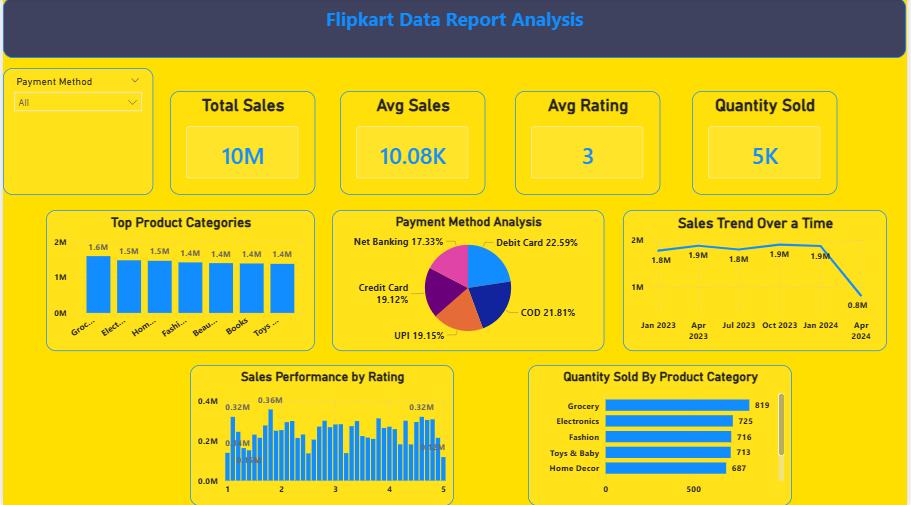

What the dashboard file says about the page in this screenshot:
{"tool":"powerbi","page":{"name":"Page 1","canvas":[1280,720],"ordinal":0},"visuals":[{"type":"cardVisual","title":"Total Sales","fields":{"Data":["Sum(Sheet1.Sales Amount)"]},"box":[236.7,131.8,205.5,147.4],"z":0},{"type":"cardVisual","title":"Avg Sales","fields":{"Data":["Avg(Sheet1.Sales Amount)"]},"box":[477.6,131.8,205.5,147.4],"z":1000},{"type":"cardVisual","title":"Quantity Sold","fields":{"Data":["Sum(Sheet1.Quantity Sold)"]},"box":[976.5,131.8,205.5,147.4],"z":2000},{"type":"cardVisual","title":"Avg Rating","fields":{"Data":["Avg(Sheet1.Customer Rating)"]},"box":[725.7,131.8,205.5,147.4],"z":3000},{"type":"pieChart","title":"Payment Method Analysis","fields":{"Category":["Sheet1.Payment Method"],"Y":["Sum(Sheet1.Sales Amount)"]},"box":[466.3,300.5,385.5,199.8],"z":4000},{"type":"columnChart","title":"Top Product Categories","fields":{"Category":["Sheet1.Product Category"],"Y":["Sum(Sheet1.Sales Amount)"]},"box":[60.9,300.5,381.3,199.8],"z":5000},{"type":"lineChart","title":"Sales Trend Over a Time","fields":{"Category":["Sheet1.Order Date.Variation.Date Hierarchy.Year","Sheet1.Order Date.Variation.Date Hierarchy.Quarter","Sheet1.Order Date.Variation.Date Hierarchy.Month","Sheet1.Order Date.Variation.Date Hierarchy.Day"],"Y":["Sum(Sheet1.Sales Amount)"]},"box":[878.7,300.5,374.2,199.8],"z":6000},{"type":"clusteredColumnChart","title":"Sales Performance by Rating","fields":{"Category":["Sheet1.Customer Rating"],"Y":["Sum(Sheet1.Sales Amount)"]},"box":[265,520.2,374.2,199.8],"z":7000},{"type":"textbox","box":[0,0,1279.8,85],"z":8000},{"type":"clusteredBarChart","title":"Quantity Sold By Product Category","fields":{"Category":["Sheet1.Product Category"],"Y":["Sum(Sheet1.Quantity Sold)"]},"box":[744.1,520.2,374.2,199.8],"z":9000},{"type":"slicer","fields":{"Values":["Sheet1.Payment Method"]},"box":[0,99.2,212.6,180],"z":10000}]}

Visuals, with their boxes in screenshot pixels (x1, y1, x2, y2), scaled from the page's 1280x720 canvas onto the 911x505 screenshot:
"Total Sales" cardVisual: x1=168 y1=92 x2=315 y2=196
"Avg Sales" cardVisual: x1=340 y1=92 x2=486 y2=196
"Quantity Sold" cardVisual: x1=695 y1=92 x2=841 y2=196
"Avg Rating" cardVisual: x1=516 y1=92 x2=663 y2=196
"Payment Method Analysis" pieChart: x1=332 y1=211 x2=606 y2=351
"Top Product Categories" columnChart: x1=43 y1=211 x2=315 y2=351
"Sales Trend Over a Time" lineChart: x1=625 y1=211 x2=892 y2=351
"Sales Performance by Rating" clusteredColumnChart: x1=189 y1=365 x2=455 y2=504
textbox: x1=0 y1=0 x2=910 y2=60
"Quantity Sold By Product Category" clusteredBarChart: x1=530 y1=365 x2=796 y2=504
slicer - Sheet1.Payment Method: x1=0 y1=70 x2=151 y2=196
